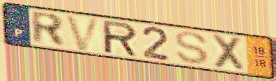2: (141, 26, 172, 63)
R: (100, 19, 139, 59), (29, 9, 68, 49)
S: (173, 30, 210, 66)
V: (64, 14, 103, 53)
X: (210, 32, 246, 73)
